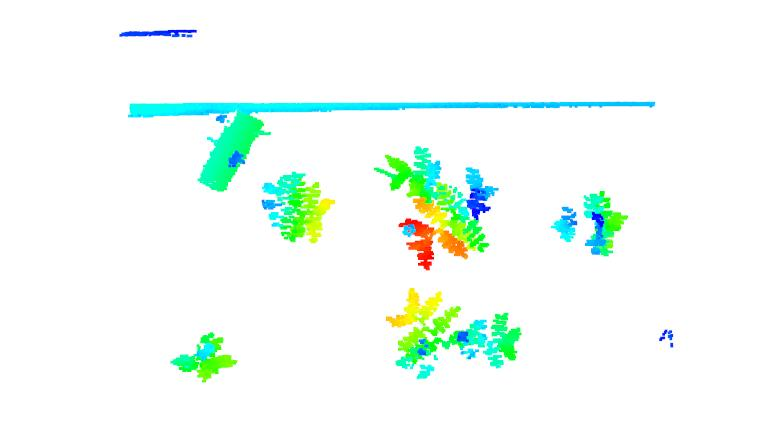chickpea: (399, 166, 497, 273), (384, 291, 458, 378), (258, 170, 331, 247), (552, 188, 631, 259), (165, 329, 241, 385), (460, 310, 525, 370), (371, 149, 447, 194)
